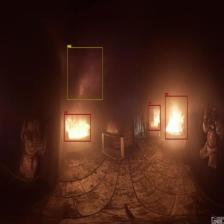fire: (165, 96, 187, 140), (64, 114, 91, 141), (148, 104, 160, 130)
smoke: (67, 47, 103, 100)
